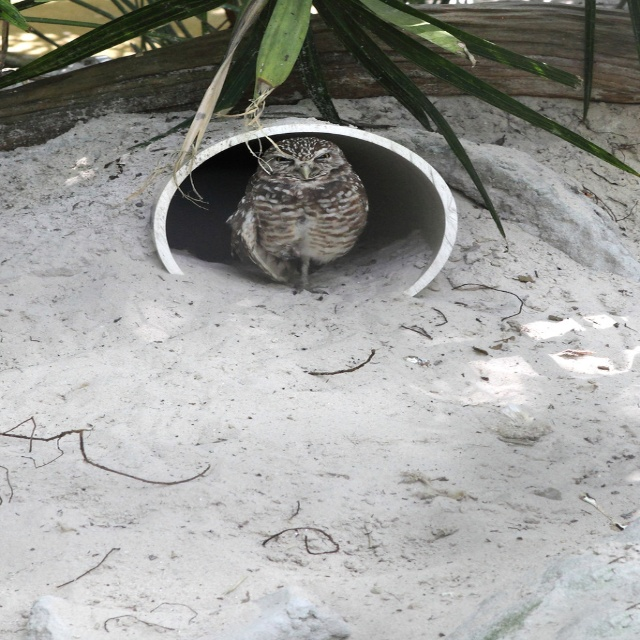Owl: (219, 138, 372, 293)
